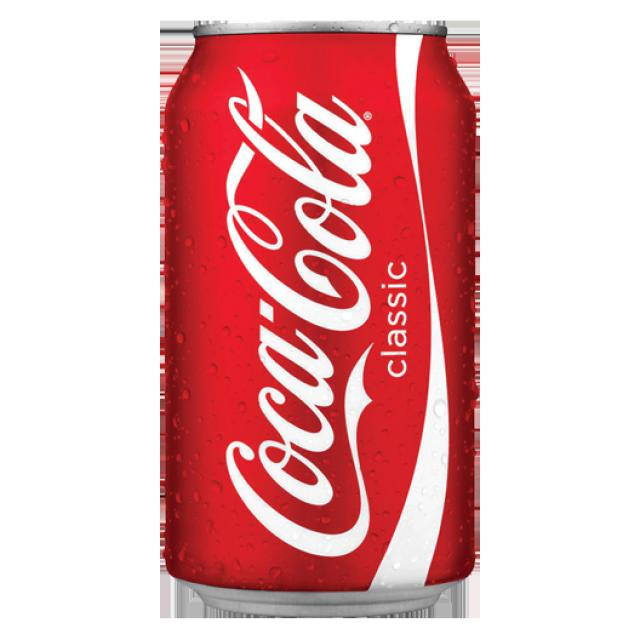cocacola: (160, 20, 476, 619)
